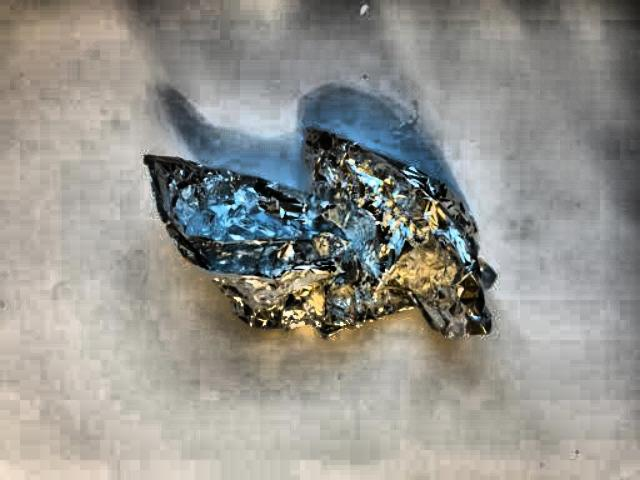Almennt: (140, 103, 503, 365)
